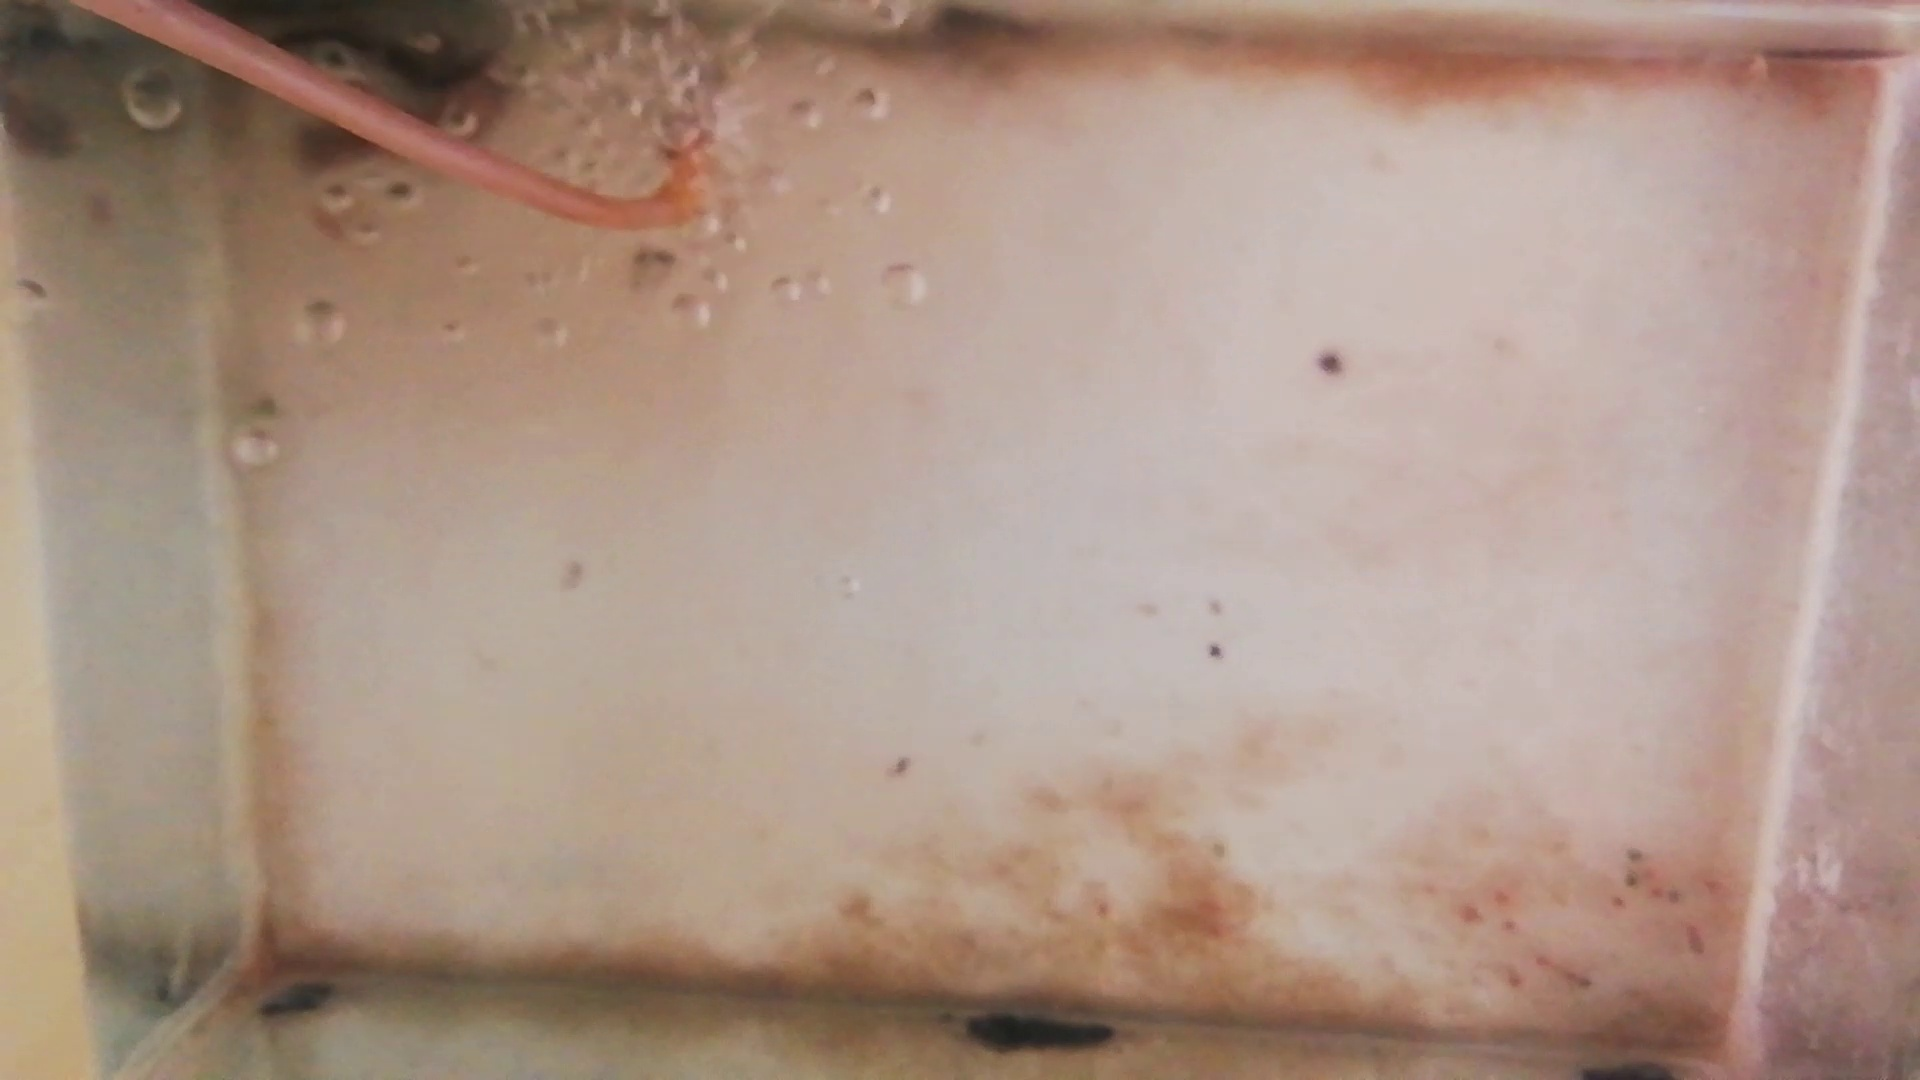fish: (285, 116, 481, 169), (367, 42, 487, 95)
